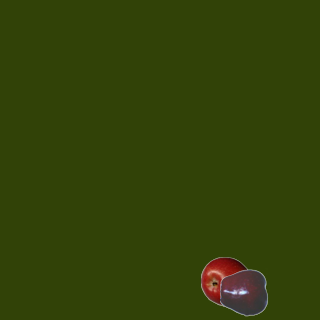Apple Braeburn: (200, 256, 250, 306)
Apple Red Delicious: (219, 267, 269, 317)
